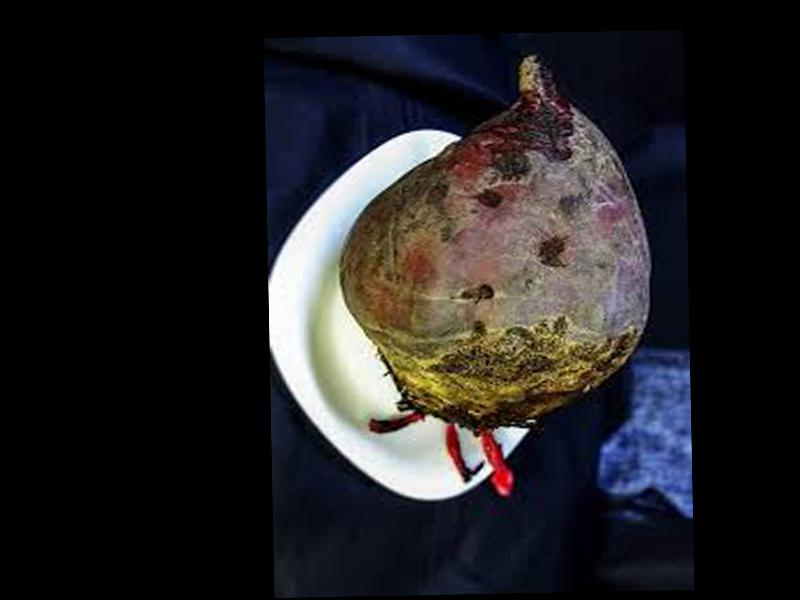Beet: (337, 55, 650, 499)
